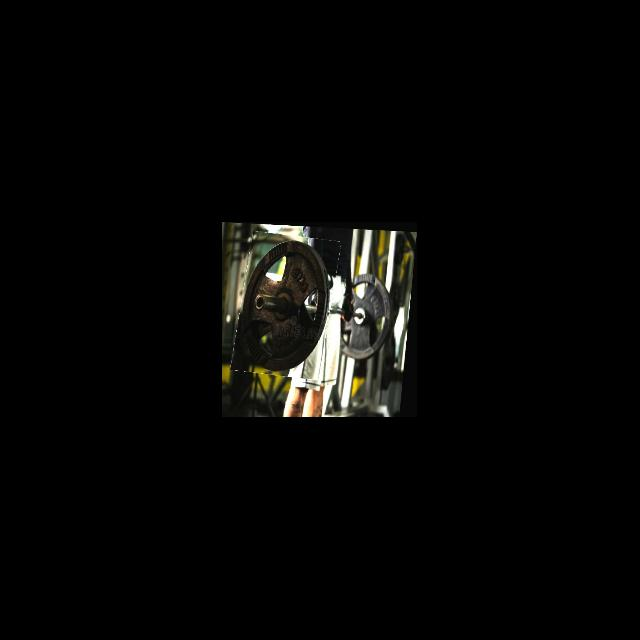barbell: (235, 232, 339, 378)
